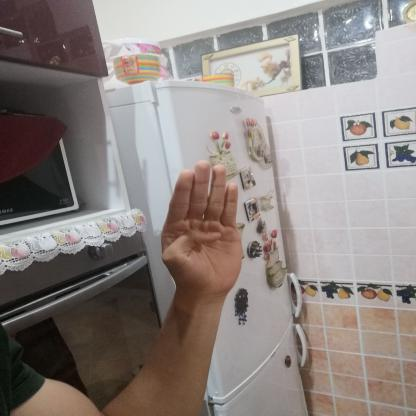KAAF: (147, 152, 255, 306)
